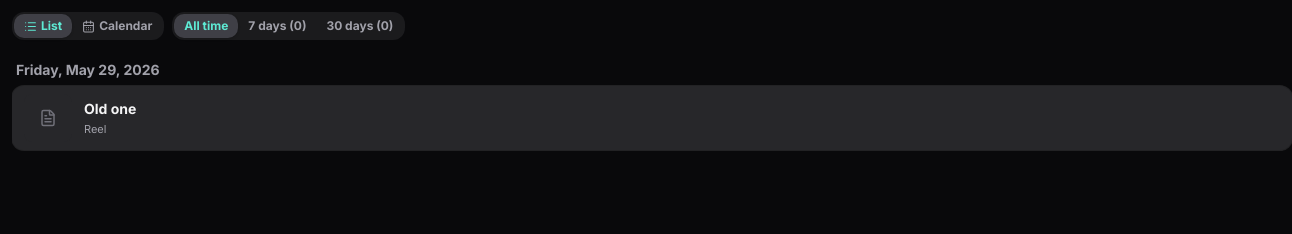
Test: Published views (US-PUB-11) › shows a range-specific empty state (not "nothing published yet") when a range hides existing posts, and recovers via show-all
The width and height of the screenshot is (1292, 234).
expect the text "Old one" is shown: met, box [84,100,136,117]
What coordinates should you click on to do the following:
click the button "7 days (0)"
I would click on:
 (277, 26)
Its box is [238,14,316,38].
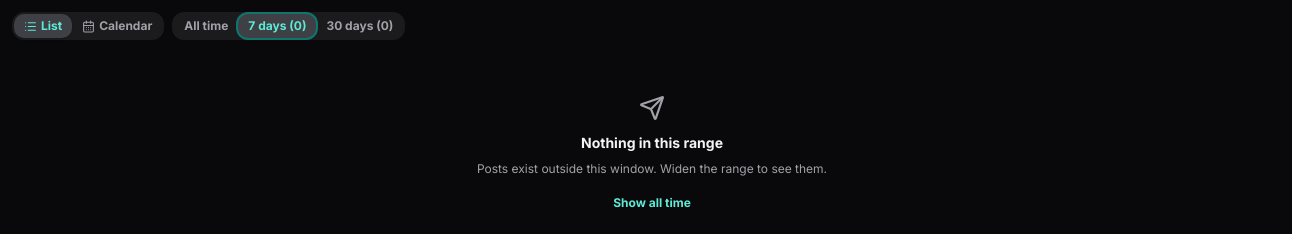
expect the text "Nothing in this range" is shown: met, box [581,134,723,151]
The show-all control points back to the All-time preset and reveals the post.
What coordinates should you click on to do the following:
click the button "Show all time"
I would click on:
 (652, 203)
Its box is [603,189,701,217].
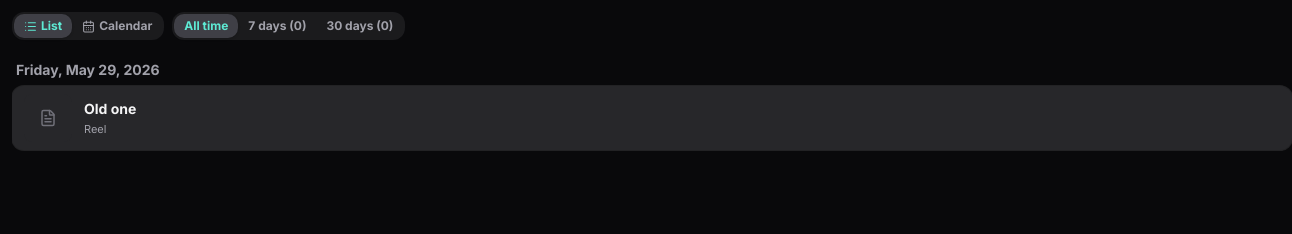
expect the text "Old one" is shown: met, box [84,100,136,117]
